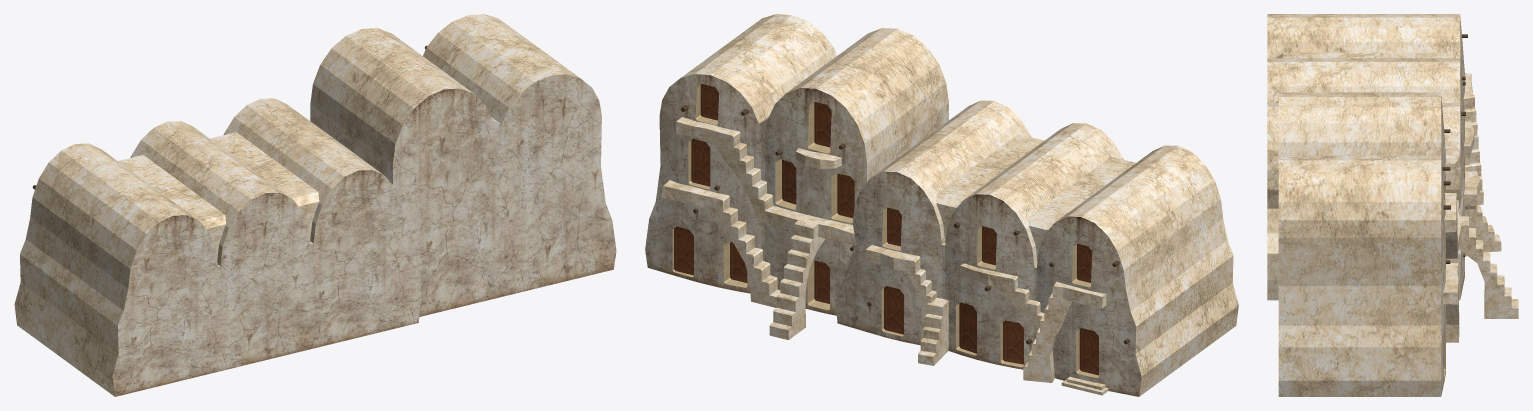
Rendered from thm_tato_block_bldg_32x16_s03_l0.fbx.
The picture shows the model from 3 angles, left to right: view 1: azimuth 30°, elevation 25°; view 2: azimuth 150°, elevation 25°; view 3: azimuth 270°, elevation 25°; orthographic projection.
Visible parts, largest first — view 1: mesh_node; view 2: mesh_node; view 3: mesh_node.
Boxes of the visible parts, x1,y1,x2,y2 form: mesh_node: [14, 14, 616, 396]; mesh_node: [645, 14, 1238, 396]; mesh_node: [1267, 14, 1518, 396].
Size of the model in its own units: 34.03 by 14.13 by 14.76.
